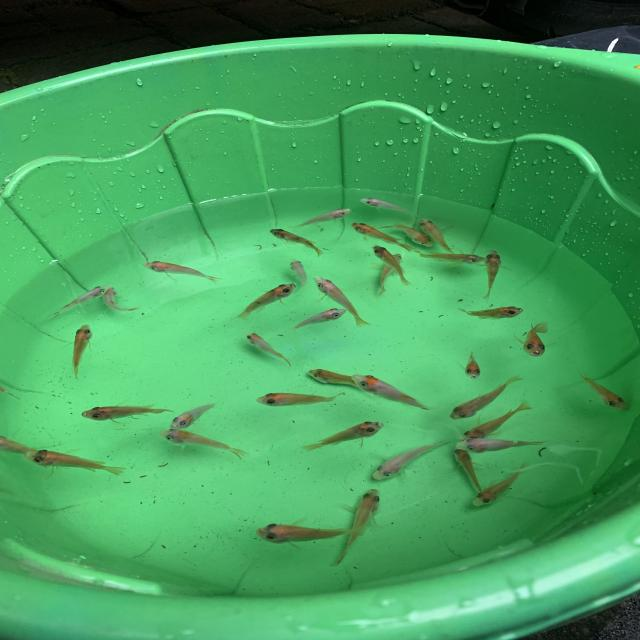nila: (369, 431, 466, 483), (345, 366, 443, 417), (333, 485, 391, 568), (441, 371, 527, 422), (247, 518, 381, 550), (155, 424, 258, 465), (22, 448, 137, 482), (465, 459, 535, 509), (310, 272, 368, 329), (572, 364, 636, 414), (452, 399, 531, 439), (297, 419, 388, 452), (232, 279, 302, 321), (267, 222, 336, 262), (49, 279, 114, 320), (370, 236, 419, 288), (345, 218, 422, 250), (74, 397, 180, 420), (135, 258, 232, 282), (454, 434, 554, 456), (414, 212, 462, 256), (247, 324, 292, 370), (167, 397, 226, 432), (286, 302, 354, 332), (63, 322, 98, 380), (414, 244, 492, 270), (451, 443, 488, 497), (251, 388, 350, 408), (473, 247, 505, 305), (379, 220, 438, 250), (517, 318, 558, 361), (296, 364, 367, 388), (0, 426, 51, 459), (374, 248, 407, 298), (351, 194, 419, 216), (449, 304, 530, 322), (100, 279, 141, 314), (290, 208, 352, 230), (282, 253, 308, 298), (460, 350, 489, 380)
